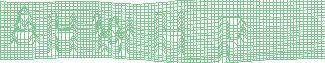A: (7, 5, 40, 49)
H: (155, 10, 188, 59), (47, 11, 80, 57)
P: (218, 13, 250, 63)
W: (93, 12, 138, 58)
